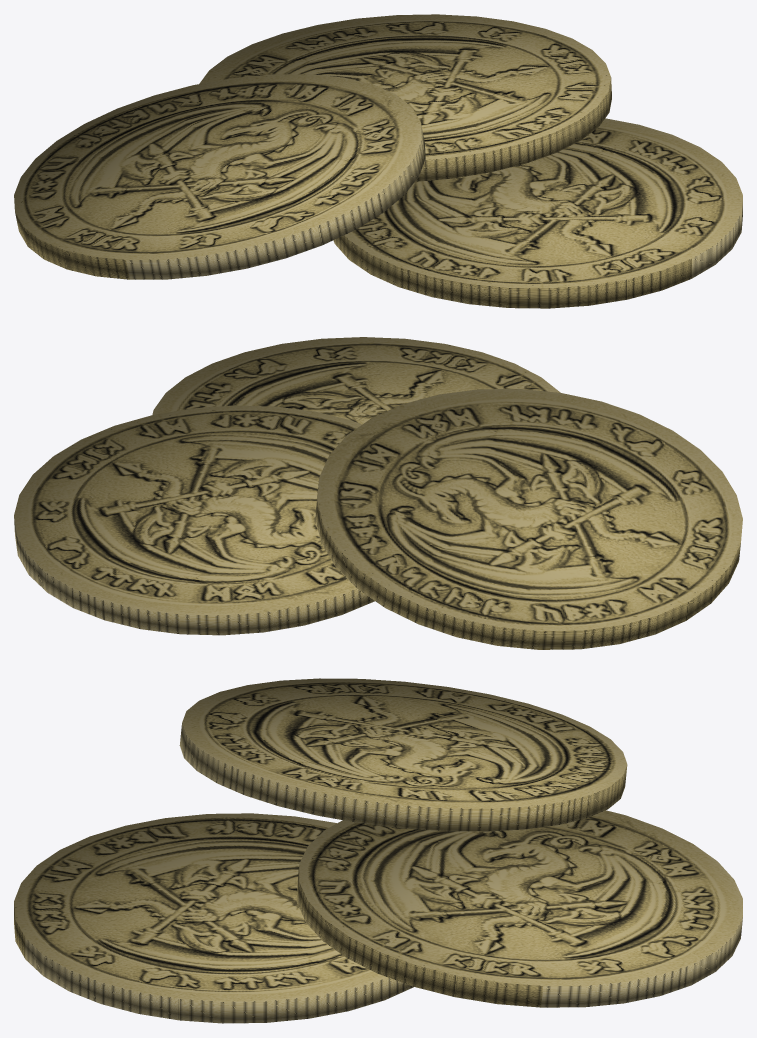
File: FewGoldCoins.fbx
3 views of the same model, one above another, from view 1: azimuth 30°, elevation 25°; view 2: azimuth 150°, elevation 25°; view 3: azimuth 270°, elevation 25° (orthographic). The views are drawn at different scales.
Visible parts, largest first — view 1: FewGoldCoins; view 2: FewGoldCoins; view 3: FewGoldCoins.
Boxes of the visible parts, x1=… form: FewGoldCoins: x1=14, y1=14, x2=742, y2=308; FewGoldCoins: x1=14, y1=337, x2=742, y2=649; FewGoldCoins: x1=14, y1=678, x2=742, y2=1023.
Size of the model in its own units: 19.91 by 2.87 by 19.55.
